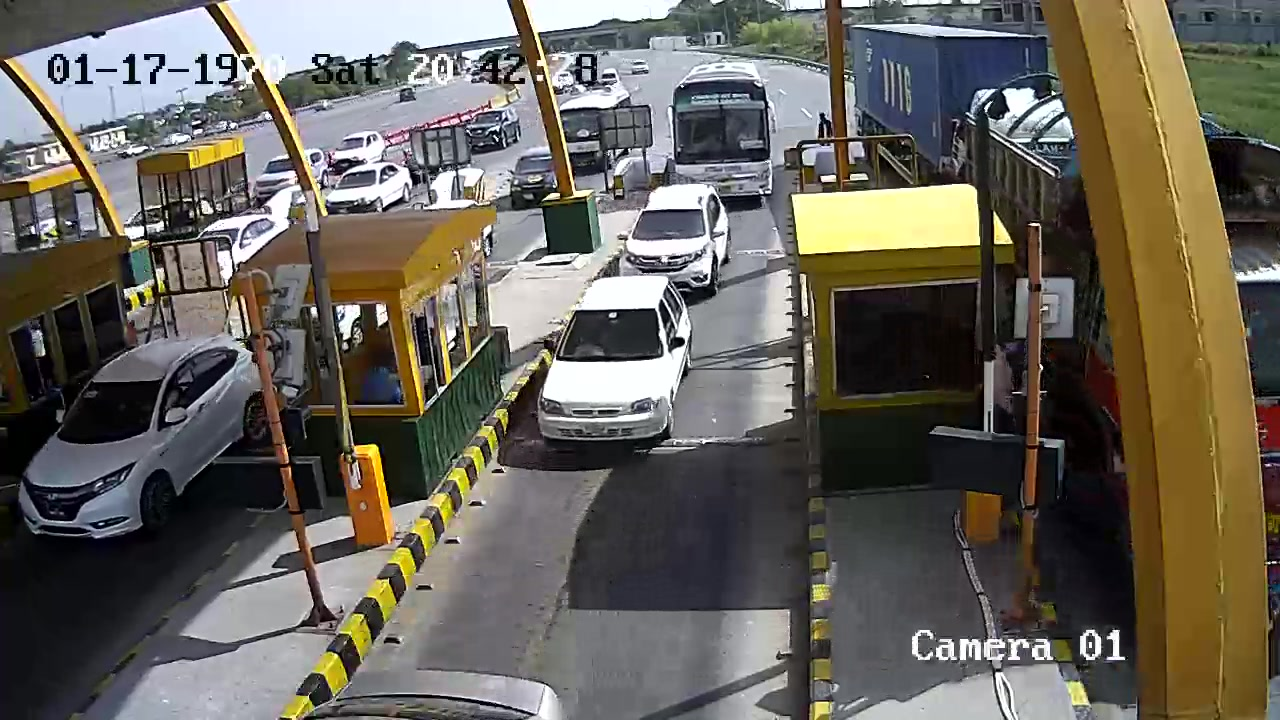F1: (531, 268, 696, 479)
